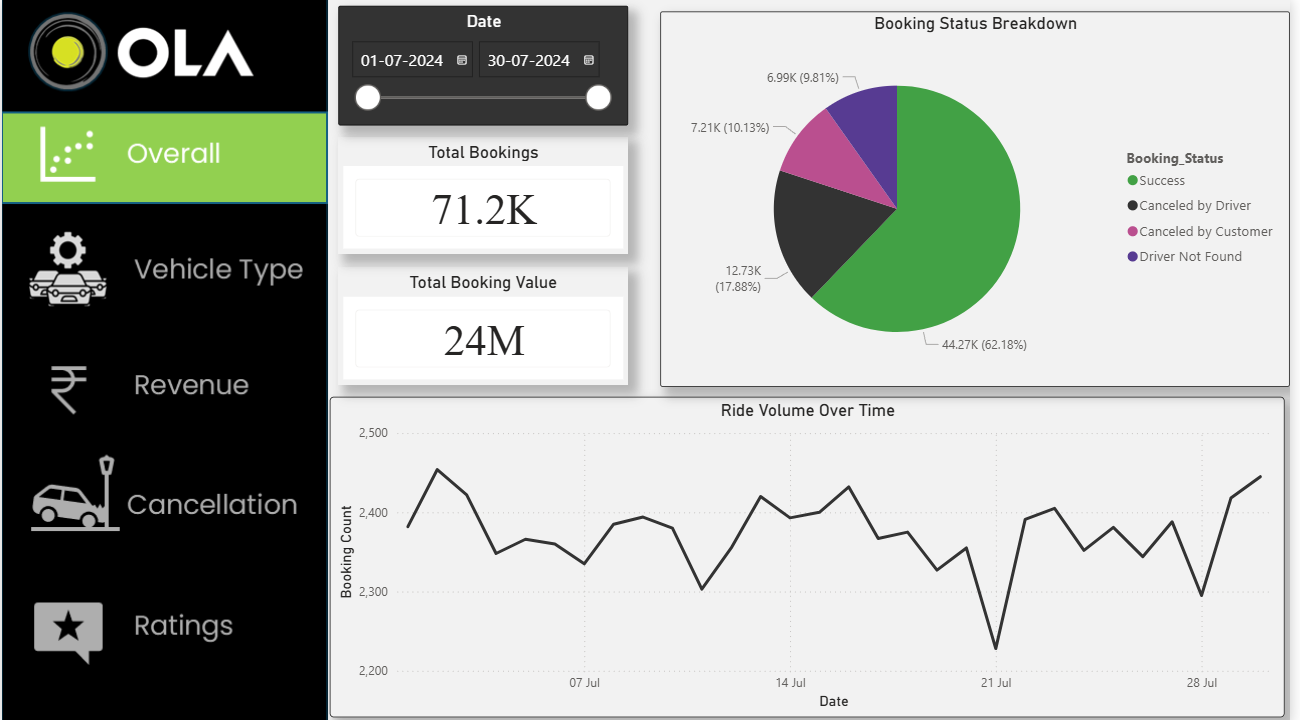

This screenshot's page, from the dashboard's own definition file:
{"tool":"powerbi","page":{"name":"Overall","canvas":[1280,720],"ordinal":0},"visuals":[{"type":"actionButton","box":[0,222,322,89.8],"z":0},{"type":"actionButton","box":[0,337.3,322,89.8],"z":1000},{"type":"actionButton","box":[0,447.5,322,89.8],"z":2000},{"type":"actionButton","box":[0,581.4,322,89.8],"z":3000},{"type":"lineChart","title":"Ride Volume Over Time","fields":{"Category":["July.Date"],"Y":["CountNonNull(July.Booking_ID)"]},"box":[325.4,394.9,949.2,318.6],"z":4000},{"type":"pieChart","title":"Booking Status Breakdown","fields":{"Category":["July.Booking_Status"],"Y":["CountNonNull(July.Booking_Status)"]},"box":[654.2,11.9,625.4,372.9],"z":5000},{"type":"slicer","title":"Date","fields":{"Values":["July.Date"]},"box":[333.9,5.1,288.1,118.6],"z":6000},{"type":"cardVisual","title":"Total Bookings","fields":{"Data":["CountNonNull(July.Booking_ID)"]},"box":[333.9,135.6,288.1,116.9],"z":7000},{"type":"cardVisual","title":"Total Booking Value","fields":{"Data":["Sum(July.Booking_Value)"]},"box":[333.9,266.1,288.1,116.9],"z":8000}]}

Visuals, with their boxes in screenshot pixels (x1, y1, x2, y2), scaled from the page's 1280x720 canvas onto the 1300x720 screenshot:
actionButton: x1=0 y1=222 x2=327 y2=312
actionButton: x1=0 y1=337 x2=327 y2=427
actionButton: x1=0 y1=448 x2=327 y2=537
actionButton: x1=0 y1=581 x2=327 y2=671
"Ride Volume Over Time" lineChart: x1=330 y1=395 x2=1295 y2=714
"Booking Status Breakdown" pieChart: x1=664 y1=12 x2=1299 y2=385
"Date" slicer: x1=339 y1=5 x2=632 y2=124
"Total Bookings" cardVisual: x1=339 y1=136 x2=632 y2=252
"Total Booking Value" cardVisual: x1=339 y1=266 x2=632 y2=383
